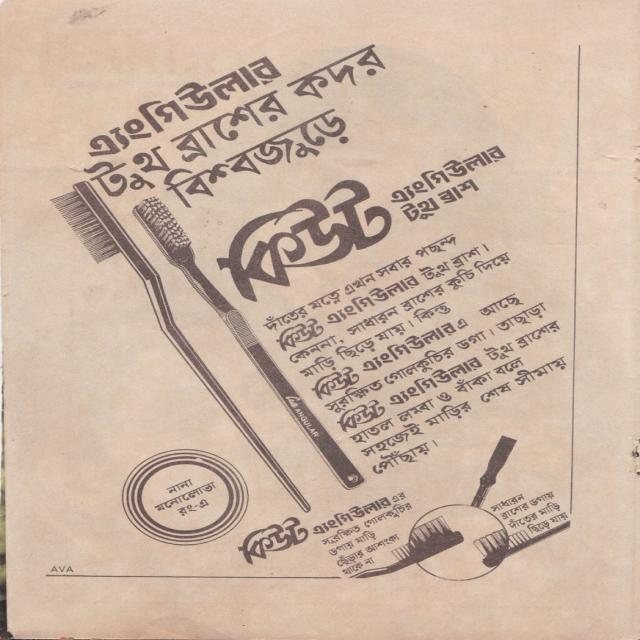advertisement: (43, 36, 583, 584)
